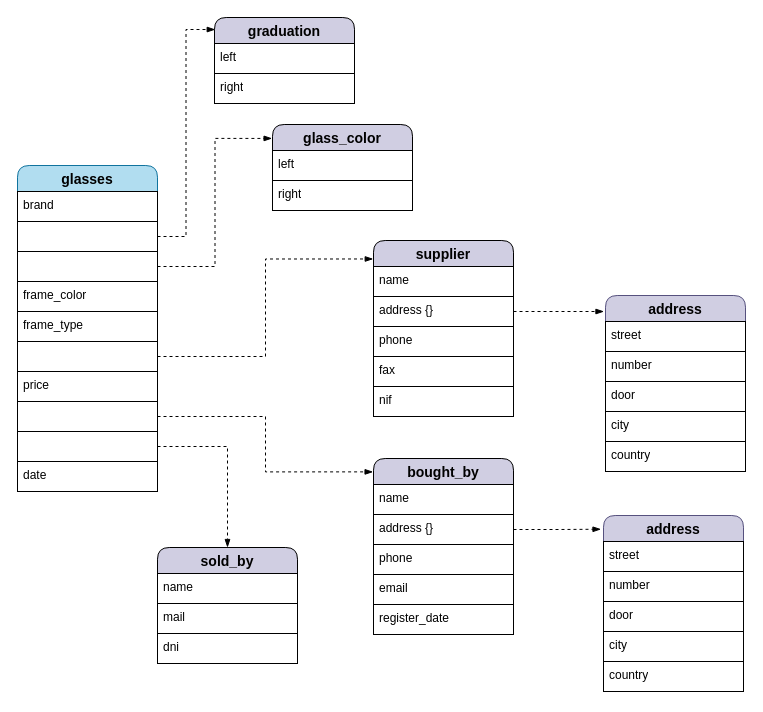
The diagram is 763 pixels wide and 712 high, and some of its shapes have lost their labels. The centre of each missing label's shape, as x and y in pixels:
bought_by {}: the point at 87,416
glass_color {}: the point at 87,266
graduation {}: the point at 87,236
sold_by {}: the point at 87,446
supplier {}: the point at 87,356
